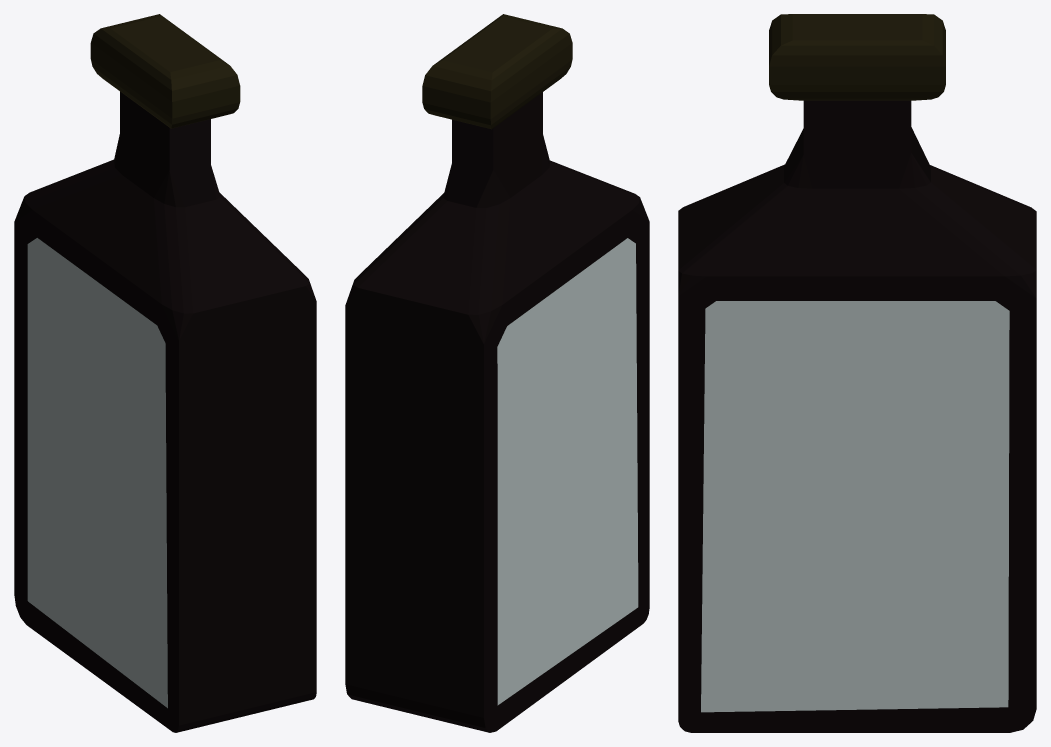
Rendered from Botella.obj.
3 views of the same model, side by side, from view 1: azimuth 30°, elevation 25°; view 2: azimuth 150°, elevation 25°; view 3: azimuth 270°, elevation 25° (orthographic). The views are drawn at different scales.
Parts seen in each view (by area): view 1: Whiiskey_Plane.001; view 2: Whiiskey_Plane.001; view 3: Whiiskey_Plane.001.
Boxes of the visible parts, left/top/right/bottom form: Whiiskey_Plane.001: left=14, top=14, right=316, bottom=732; Whiiskey_Plane.001: left=345, top=14, right=649, bottom=732; Whiiskey_Plane.001: left=678, top=14, right=1036, bottom=732.
Size of the model in its own units: 0.1671 by 0.7129 by 0.3462.
